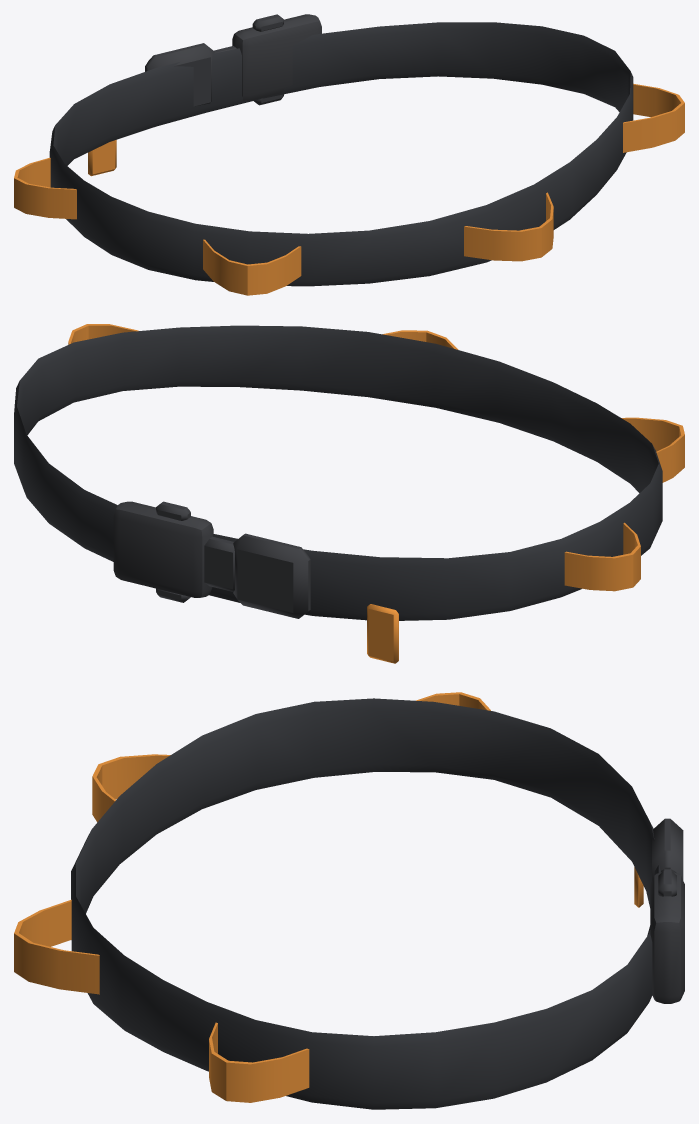
File: race-belt.glb
The picture shows the model from 3 angles, top to bottom: view 1: azimuth 30°, elevation 25°; view 2: azimuth 150°, elevation 25°; view 3: azimuth 270°, elevation 25°; orthographic projection. The views are drawn at different scales.
Parts seen in each view (by area): view 1: race-belt_LOD0; view 2: race-belt_LOD0; view 3: race-belt_LOD0.
Boxes of the visible parts, left/top/right/bottom form: race-belt_LOD0: left=14, top=14, right=684, bottom=295; race-belt_LOD0: left=14, top=324, right=684, bottom=663; race-belt_LOD0: left=14, top=692, right=684, bottom=1109.
Bounding box in the file's own units: 0.3302 × 0.0562 × 0.2519.
